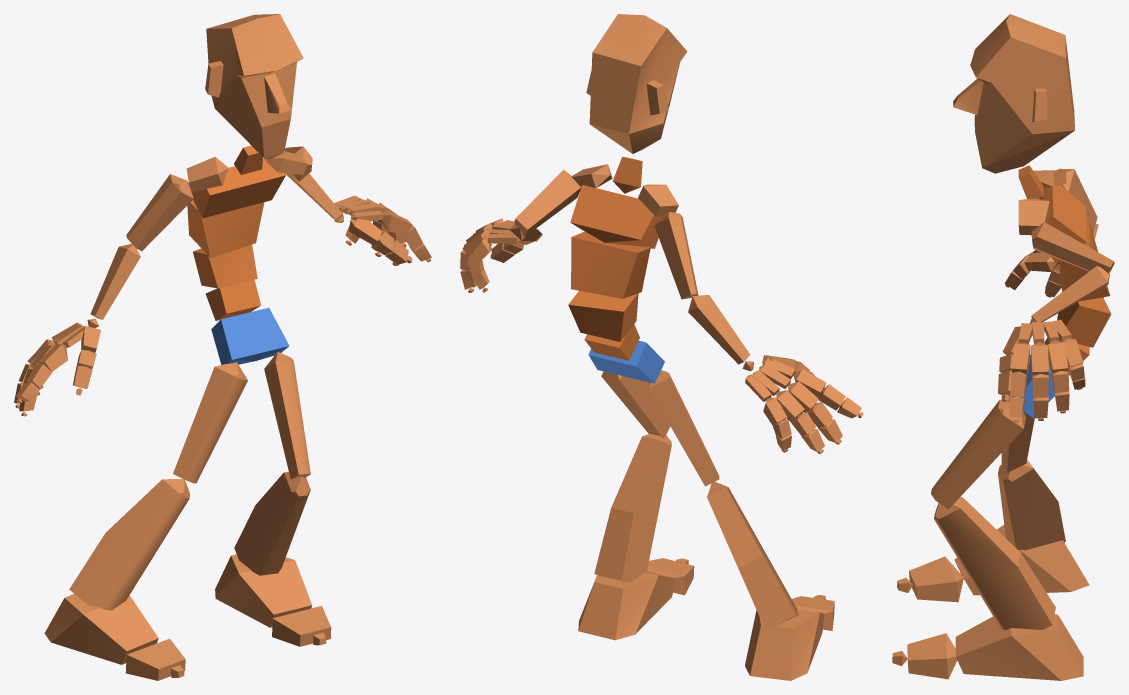
File: prueba88.obj
The picture shows the model from 3 angles, left to right: view 1: azimuth 30°, elevation 25°; view 2: azimuth 150°, elevation 25°; view 3: azimuth 270°, elevation 25°; orthographic projection. The views are drawn at different scales.
Parts seen in each view (by area): view 1: BOPED_Head, BOPED_R_leg, BOPED_R_foot, BOPED_L_leg, BOPED_R_foot01, BOPED_R_legup, BOPED_L_legup, Bone01, Bone04, Bone05, BOPED_R_arm_upper, Bone03 (+7 smaller); view 2: BOPED_Head, BOPED_L_leg, BOPED_R_leg, BOPED_R_foot01, BOPED_R_foot, Bone04, Bone05, BOPED_R_legup, Bone03, BOPED_R_arm_upper, BOPED_L_legup, BOPED_L_arm_upper (+8 smaller); view 3: BOPED_Head, BOPED_L_leg, BOPED_R_foot01, BOPED_R_leg, BOPED_L_legup, BOPED_R_foot, BOPED_L_arm_upper, BOPED_R_foot_toe01, BOPED_R_foot_toe04, Bone03, Bone05, BOPED_L_arm_fore (+15 smaller).
Part boxes in pixels (x1=…): BOPED_Head: x1=205, y1=14, x2=303, y2=159; BOPED_R_leg: x1=69, y1=479, x2=189, y2=610; BOPED_R_foot: x1=44, y1=594, x2=158, y2=664; BOPED_L_leg: x1=234, y1=472, x2=310, y2=575; BOPED_R_foot01: x1=215, y1=554, x2=312, y2=627; BOPED_R_legup: x1=173, y1=362, x2=247, y2=483; BOPED_L_legup: x1=264, y1=352, x2=310, y2=479; Bone01: x1=211, y1=307, x2=289, y2=364; Bone04: x1=187, y1=200, x2=264, y2=257; Bone05: x1=191, y1=158, x2=285, y2=218; BOPED_R_arm_upper: x1=126, y1=174, x2=193, y2=251; Bone03: x1=193, y1=244, x2=257, y2=288; BOPED_Head: x1=586, y1=14, x2=687, y2=153; BOPED_L_leg: x1=594, y1=433, x2=671, y2=582; BOPED_R_leg: x1=707, y1=482, x2=798, y2=630; BOPED_R_foot01: x1=578, y1=571, x2=675, y2=640; BOPED_R_foot: x1=745, y1=609, x2=824, y2=680; Bone04: x1=571, y1=231, x2=650, y2=298; Bone05: x1=570, y1=185, x2=663, y2=248; BOPED_R_legup: x1=648, y1=370, x2=719, y2=486; Bone03: x1=568, y1=290, x2=638, y2=341; BOPED_R_arm_upper: x1=654, y1=212, x2=698, y2=299; BOPED_L_legup: x1=601, y1=371, x2=670, y2=438; BOPED_L_arm_upper: x1=514, y1=169, x2=580, y2=236; BOPED_Head: x1=953, y1=14, x2=1074, y2=173; BOPED_L_leg: x1=934, y1=497, x2=1055, y2=629; BOPED_R_foot01: x1=955, y1=614, x2=1083, y2=680; BOPED_R_leg: x1=998, y1=460, x2=1065, y2=550; BOPED_L_legup: x1=931, y1=399, x2=1025, y2=508; BOPED_R_foot: x1=954, y1=524, x2=1089, y2=595; BOPED_L_arm_upper: x1=1031, y1=222, x2=1114, y2=273; BOPED_R_foot_toe01: x1=909, y1=556, x2=963, y2=602; BOPED_R_foot_toe04: x1=907, y1=633, x2=957, y2=679; Bone03: x1=1057, y1=297, x2=1111, y2=347; Bone05: x1=1042, y1=185, x2=1086, y2=263; BOPED_L_arm_fore: x1=1031, y1=266, x2=1110, y2=322.
Size of the model in its own units: 130 by 182 by 57.3.
